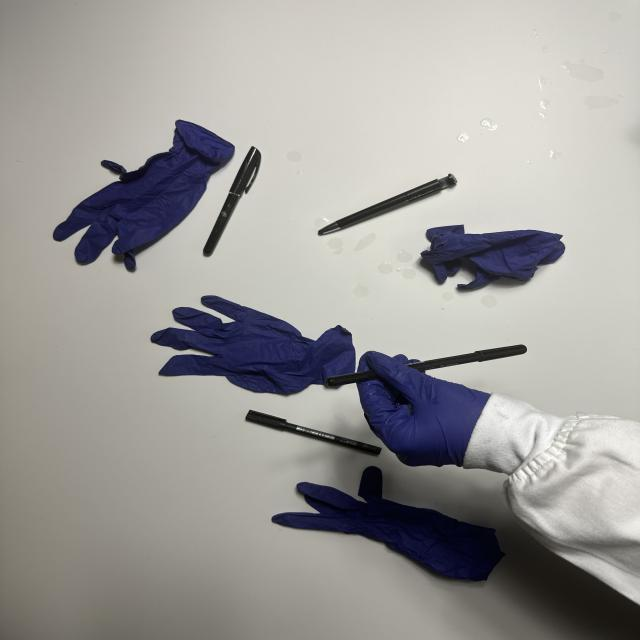gloves_contaminated: (358, 352, 489, 466)
